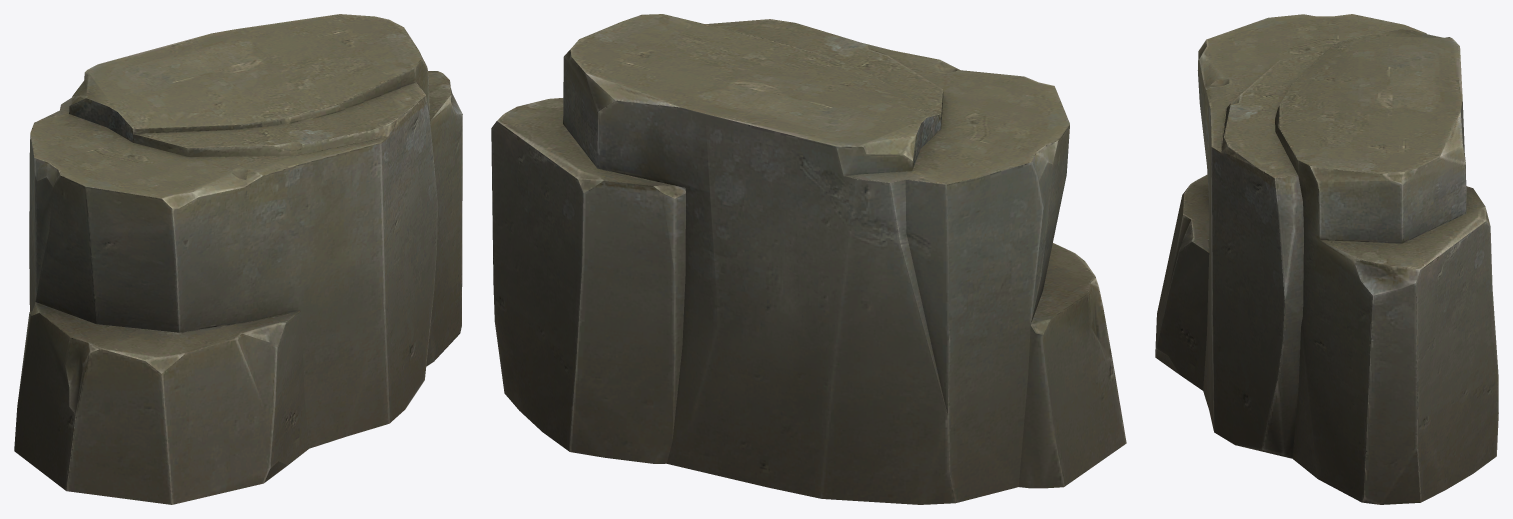
File: riveredge_rock009a.glb
3 views of the same model, side by side, from view 1: azimuth 30°, elevation 25°; view 2: azimuth 150°, elevation 25°; view 3: azimuth 270°, elevation 25° (orthographic). The views are drawn at different scales.
Parts seen in each view (by area): view 1: models\props_rock\riveredge_rock009a.vmdl_c.riveredge_rock00; view 2: models\props_rock\riveredge_rock009a.vmdl_c.riveredge_rock00; view 3: models\props_rock\riveredge_rock009a.vmdl_c.riveredge_rock00.
Boxes of the visible parts, x1=… form: models\props_rock\riveredge_rock009a.vmdl_c.riveredge_rock00: x1=14, y1=14, x2=462, y2=504; models\props_rock\riveredge_rock009a.vmdl_c.riveredge_rock00: x1=491, y1=14, x2=1126, y2=504; models\props_rock\riveredge_rock009a.vmdl_c.riveredge_rock00: x1=1155, y1=14, x2=1498, y2=504.
Bounding box in the file's own units: 11.62 × 7.34 × 7.43.
1 material, 1 textured.
